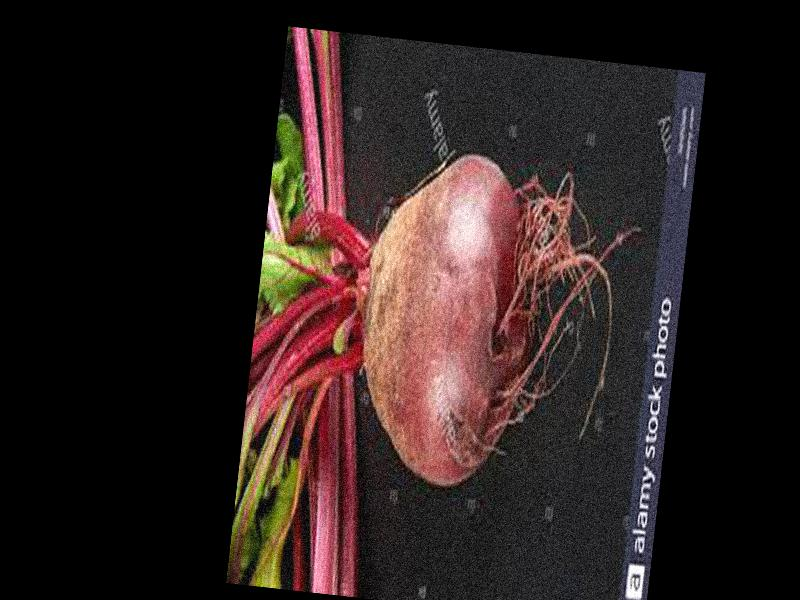Beet: (228, 130, 646, 600)
